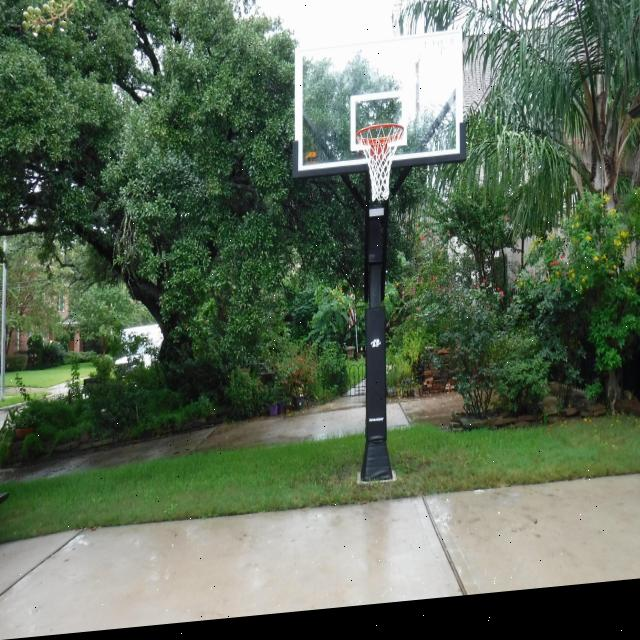hoop: (356, 122, 404, 203)
